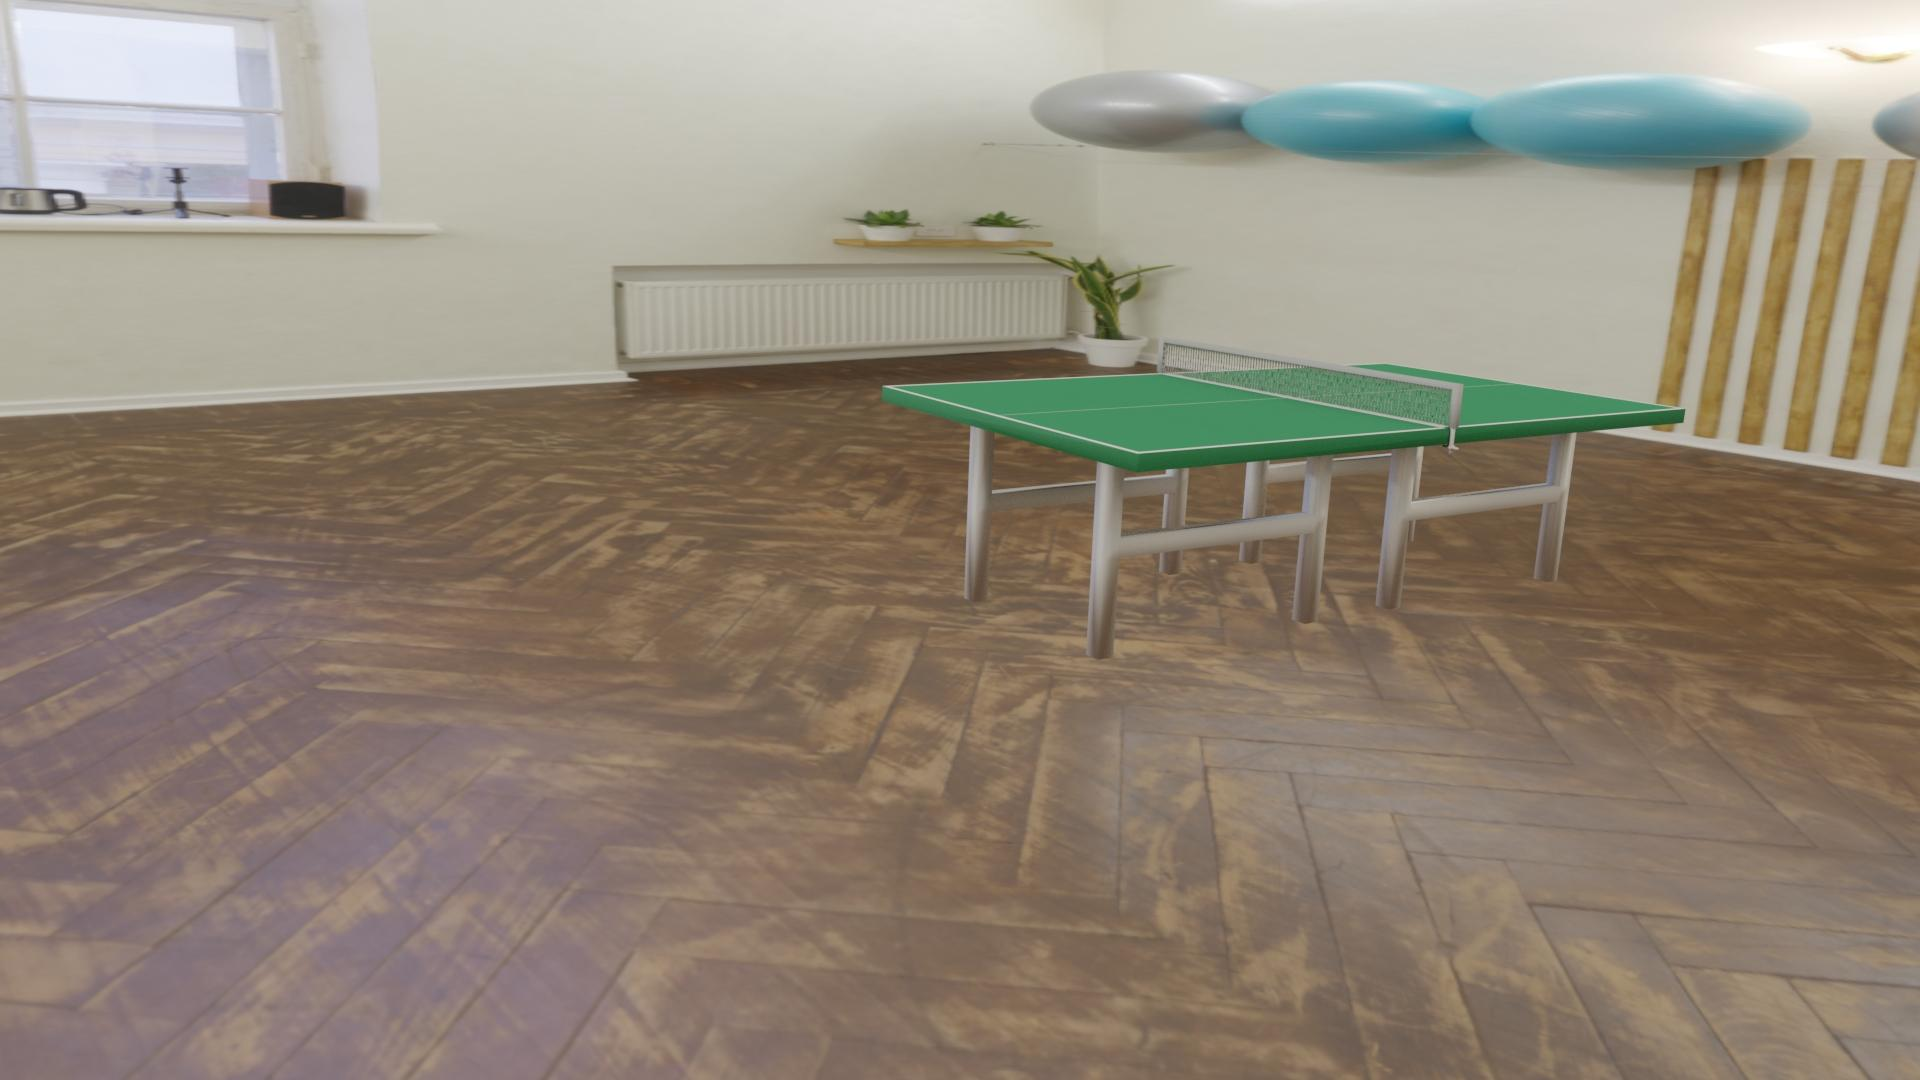table: (890, 364, 1677, 452)
